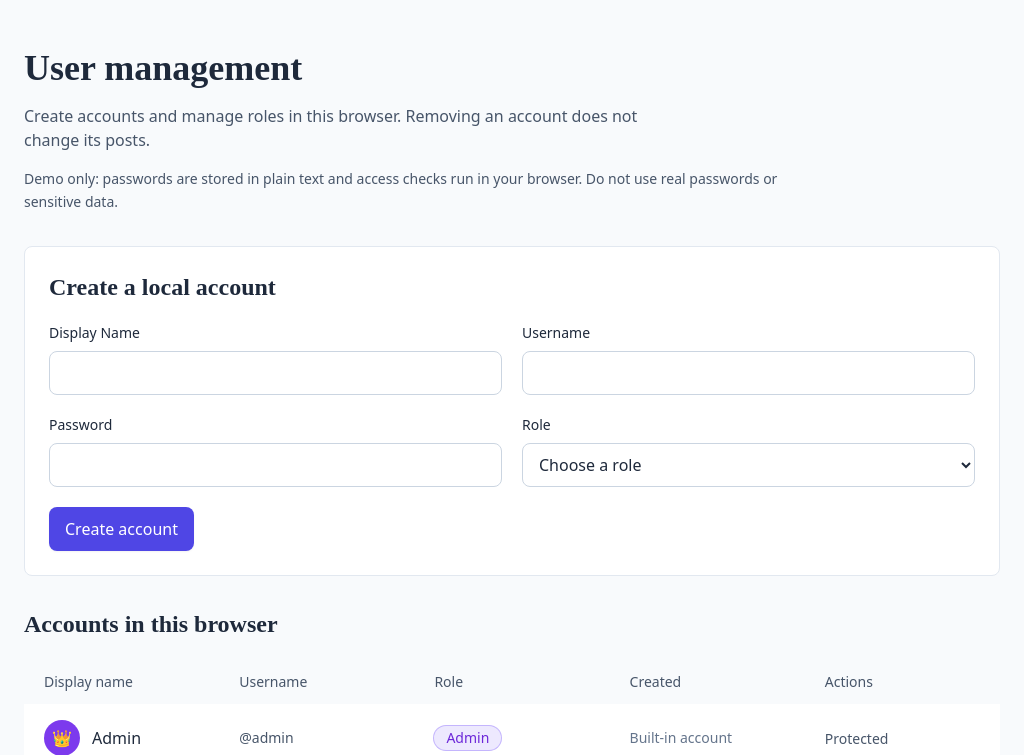
shows reserved/duplicate username error without resetting form or writing
This screenshot has width=1024, height=755.
Type "New Writer" into the field labelled "Display Name" at (276, 372), box [49,350,502,394]
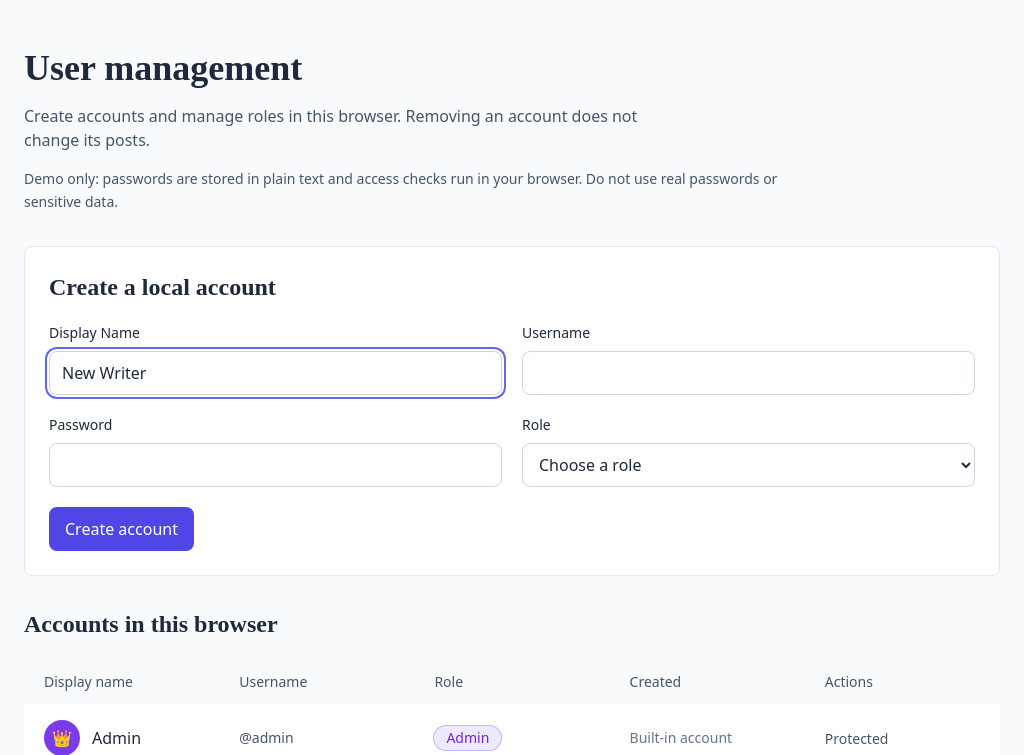
Type "admin" into the field labelled "Username" at (748, 372), box [522,350,975,394]
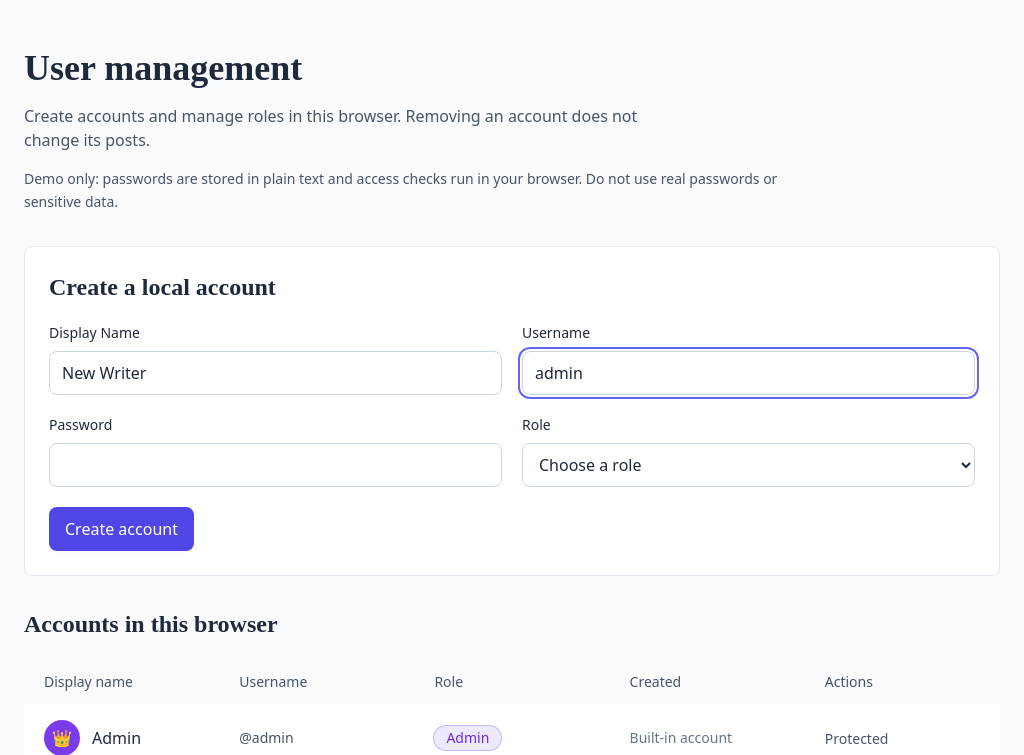
Type "demo-only" into the password field labelled "Password" at (276, 464), box [49,442,502,486]
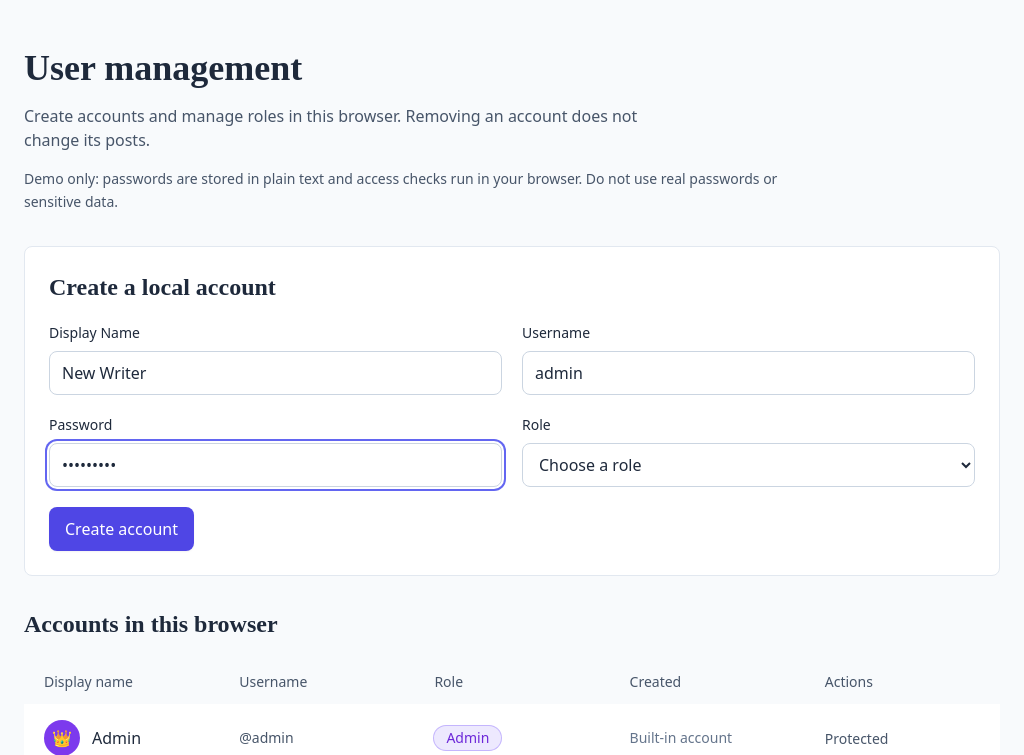
Select "User" in the dropdown labelled "Role" at (748, 464), box [522,442,975,486]
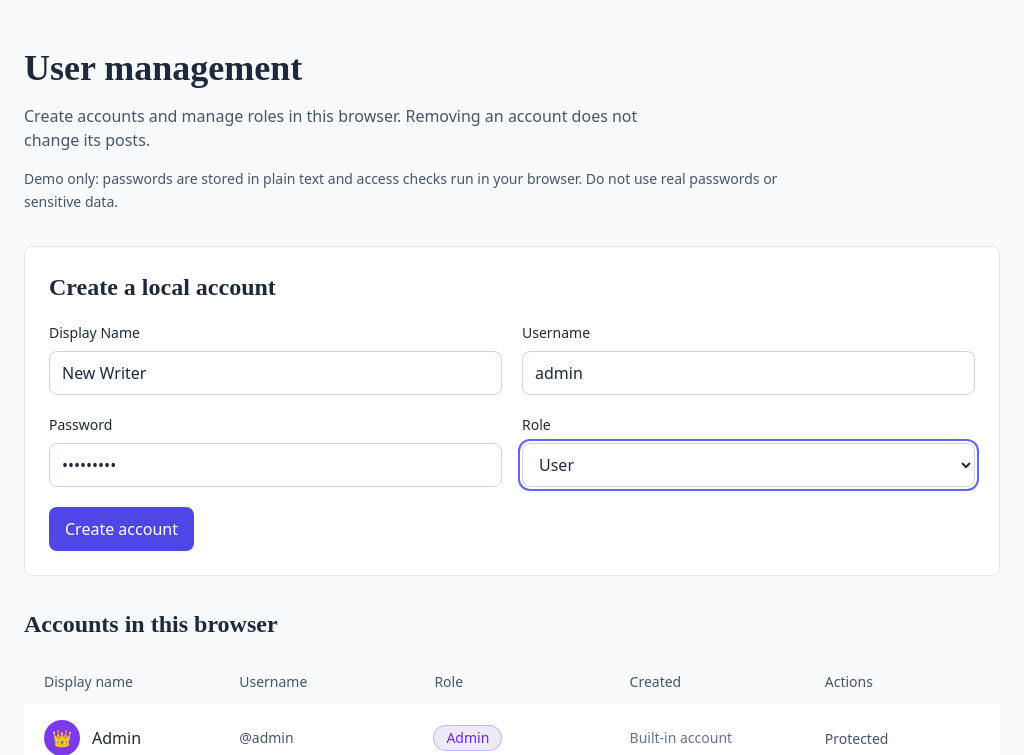
Click the button "Create account" at (121, 528), box [49,506,194,550]
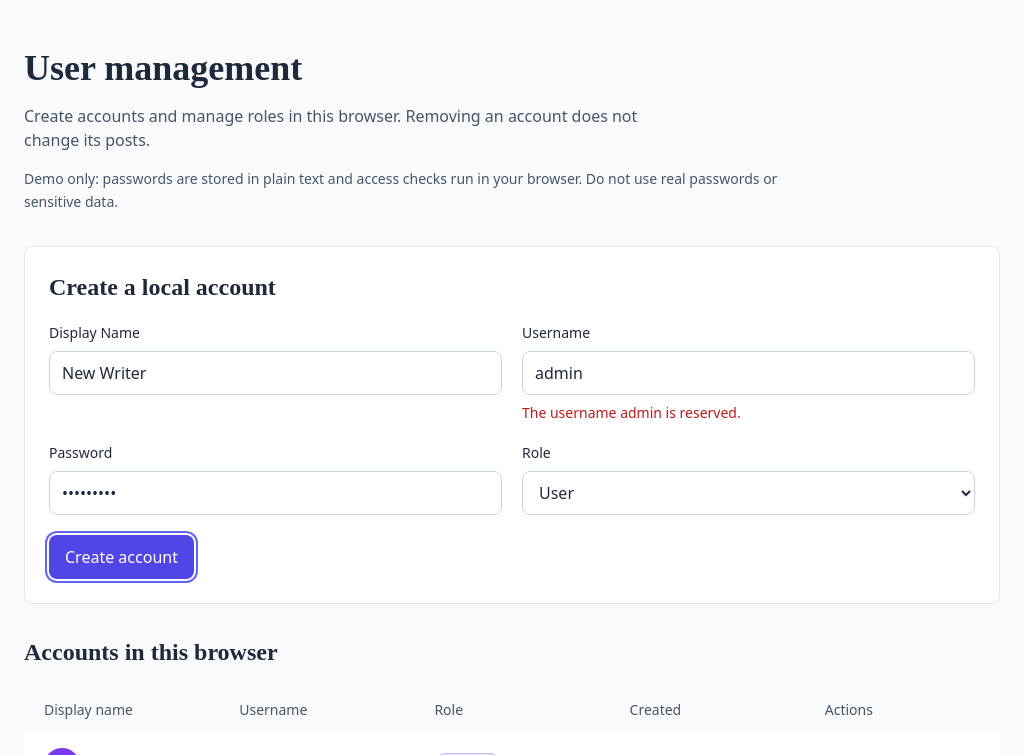
Expected: the message shows "reserved", [522,402,741,422]
